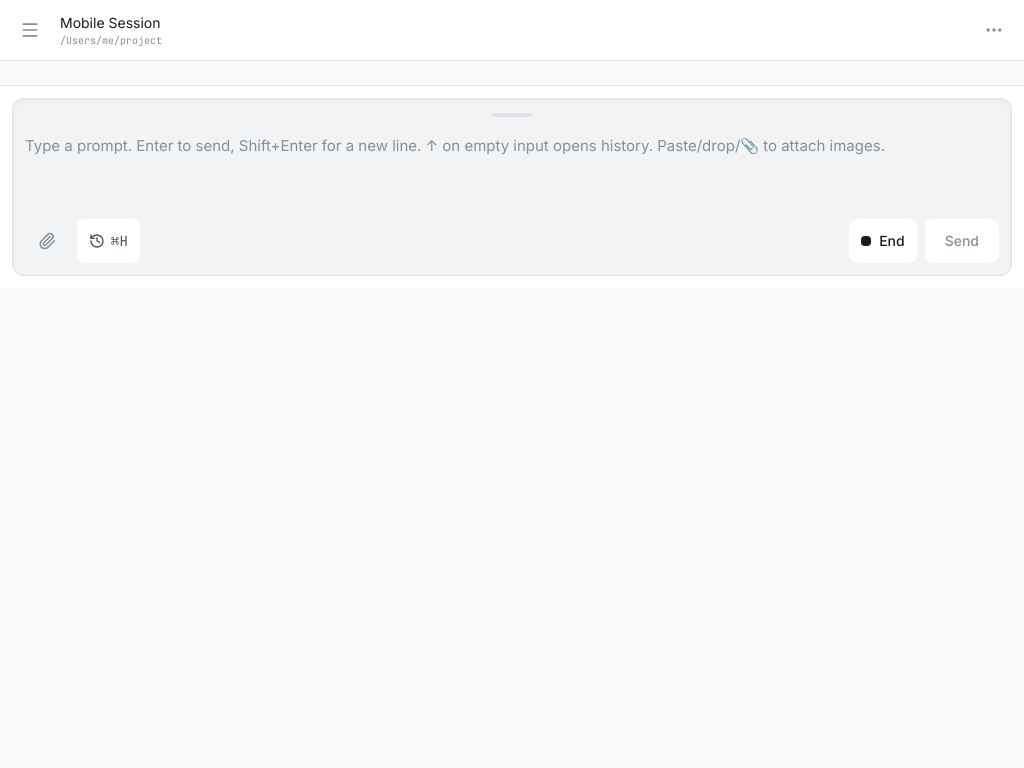
Test: Chat › puts the secondary actions behind the overflow sheet on a phone
Expected: the field labelled "Find in transcript" is not shown
Click the button named "More session actions": [994, 30] box [972, 8, 1016, 52]
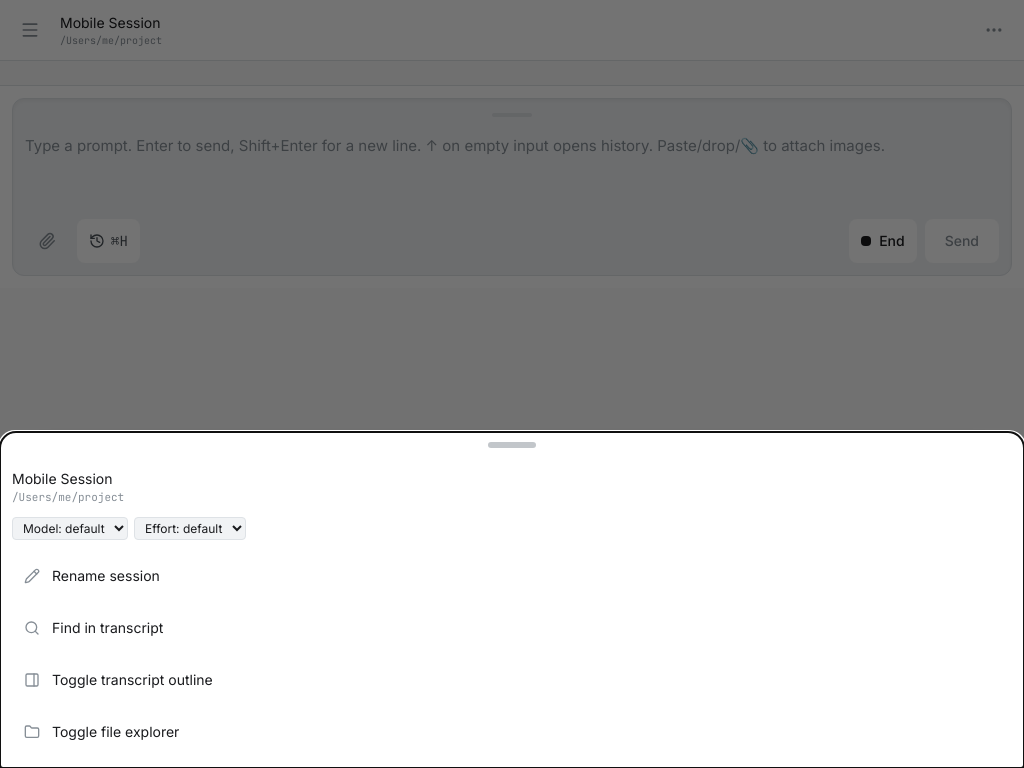
Expected: the button labelled "Find in transcript" is shown, [12, 604, 1012, 652]
Expected: the button labelled "Toggle transcript outline" is shown, [12, 656, 1012, 704]
Expected: the button labelled "Toggle file explorer" is shown, [12, 708, 1012, 756]
